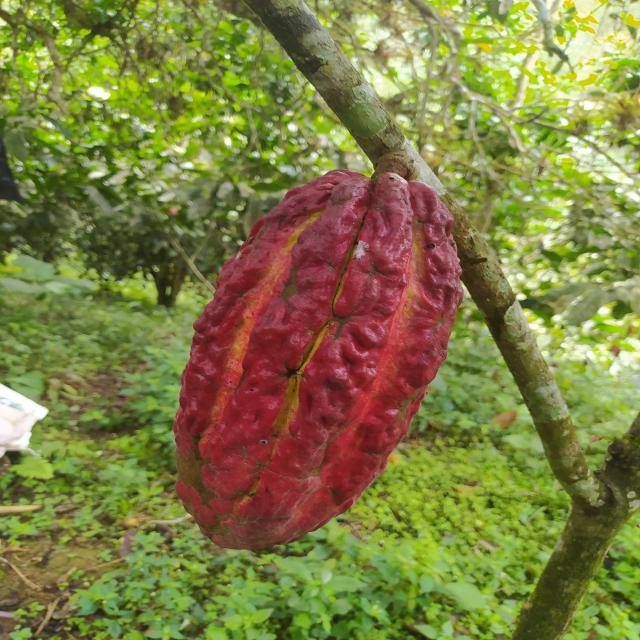Sana: (172, 170, 464, 551)
